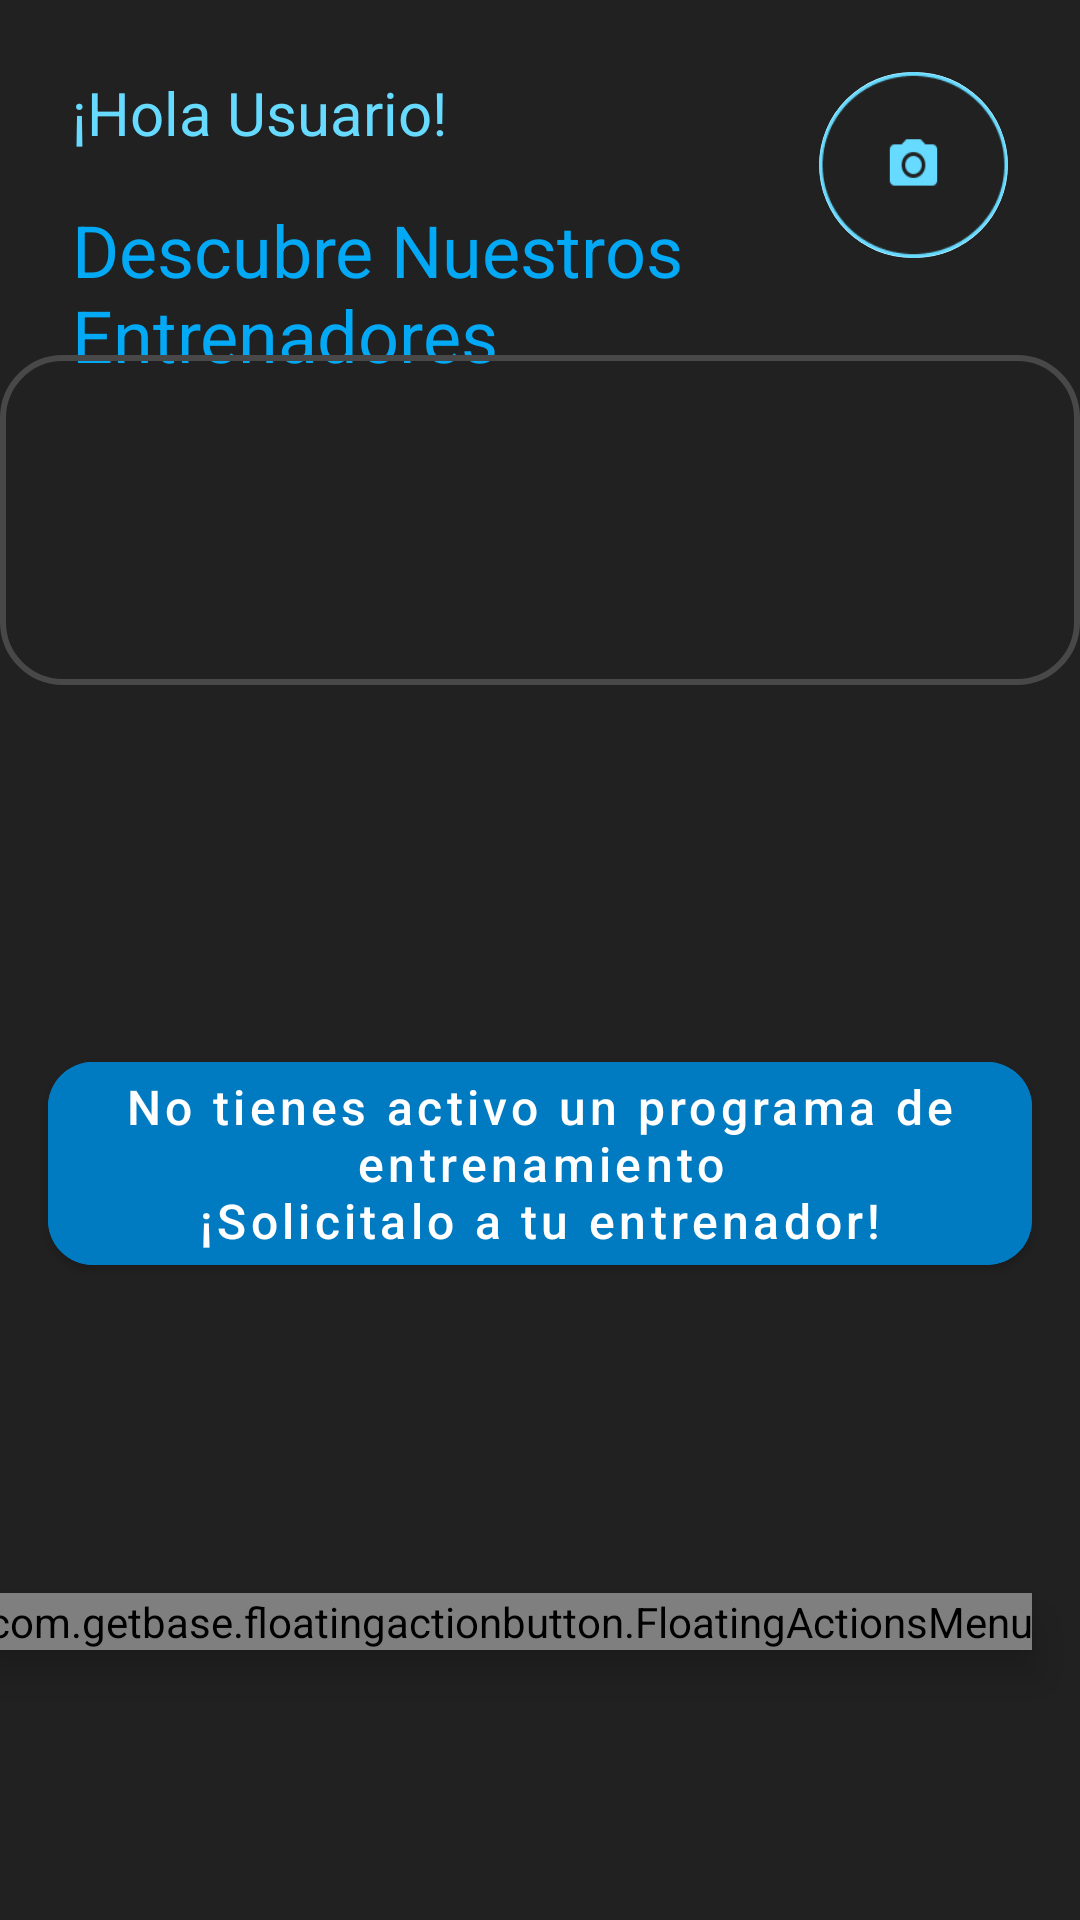

Named icons in this screenshot (1080x1920) and their centers, [x,y]:
perfil: [913,165]
